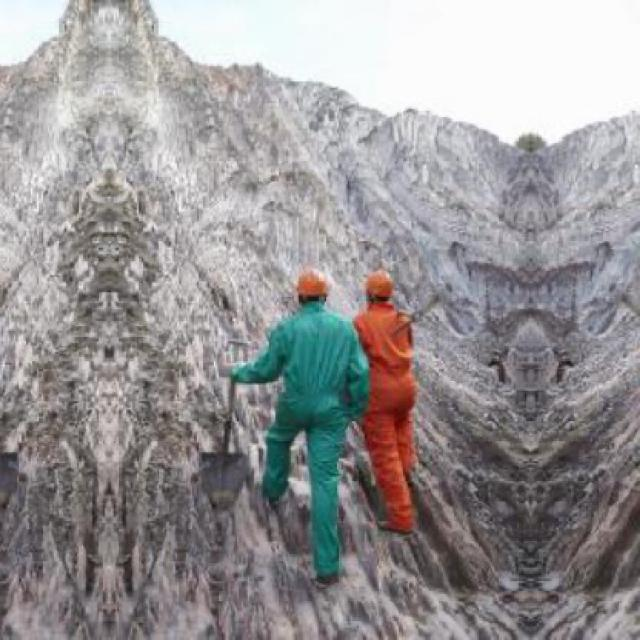helmet: (294, 265, 334, 309), (366, 266, 400, 311)
